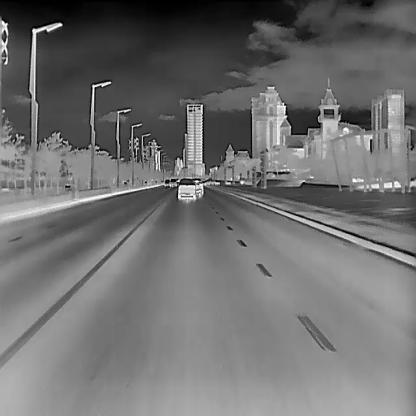car: (177, 176, 195, 199), (192, 177, 202, 196), (168, 177, 176, 187), (162, 178, 170, 186)
